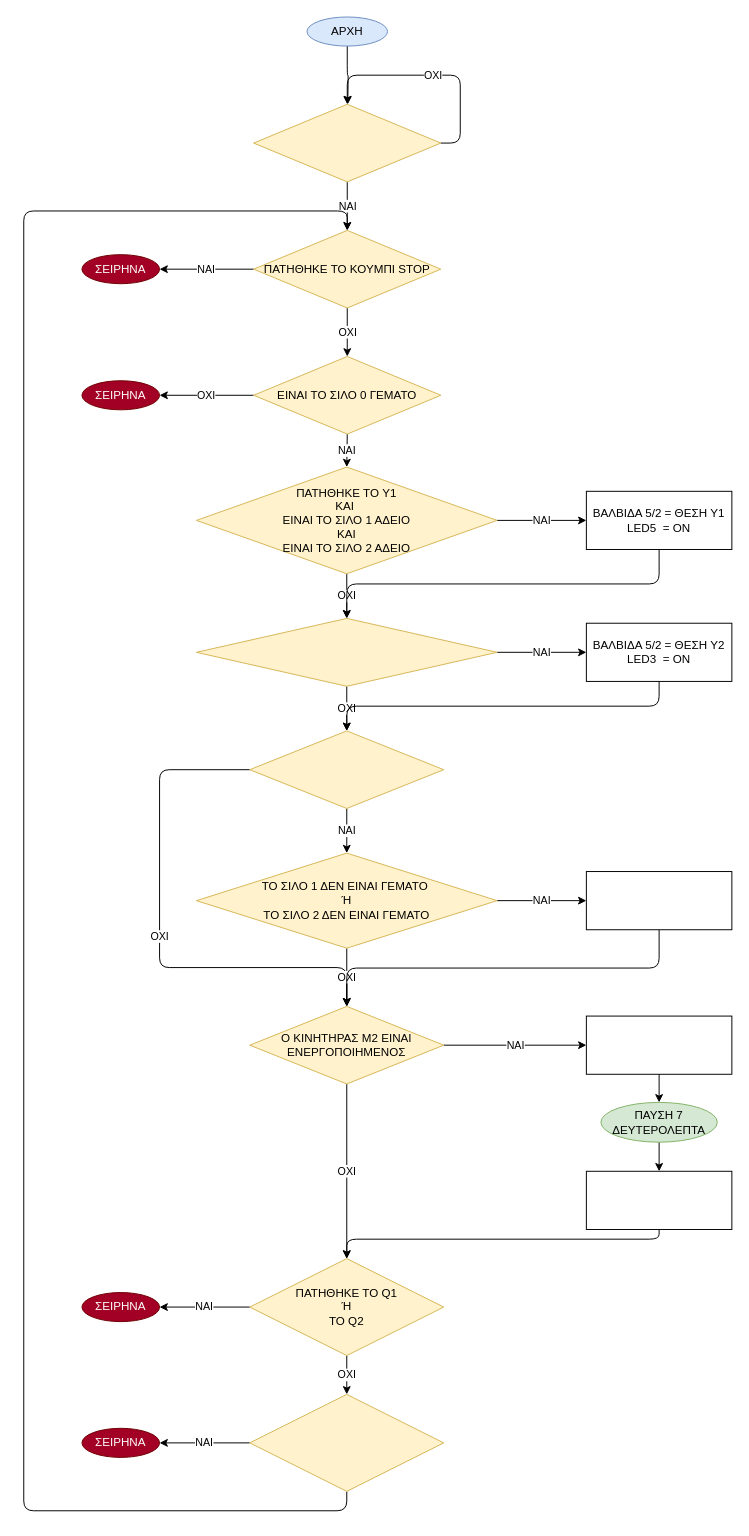
Image size: 749x1536. Some labels were removed from this diagram. The shapes that lost their labels are listed below. From the top down, each one's centre as x and y in pixels, then its label:
At point (347, 142): "ΠΑΤΗΘΗΚΕ ΤΟ ΚΟΥΜΠΙ START".
At point (346, 651): "ΠΑΤΗΘΗΚΕ ΤΟ Y2 ΚΑΙ ΕΙΝΑΙ ΤΟ ΣΙΛΟ 1 ΓΕΜΑΤΟ".
At point (346, 769): "Η ΒΑΛΒΙΔΑ 5/2 ΕΙΝΑΙ ΣΤΗ ΘΕΣΗ Y1".
At point (658, 900): "ΕΝΕΡΓΟΠΟΊΗΣΗ Μ2 LED4 = ON".
At point (658, 1044): "LED6 = ON ΕΝΕΡΓΟΠΟΙΗΣΕ Μ1".
At point (658, 1199): "Β5 = ON LED2 = ON".
At point (346, 1442): "ΣΙΛΟ1 ΚΑΙ ΣΙΛΟ2 ΓΕΜΑΤΑ".
